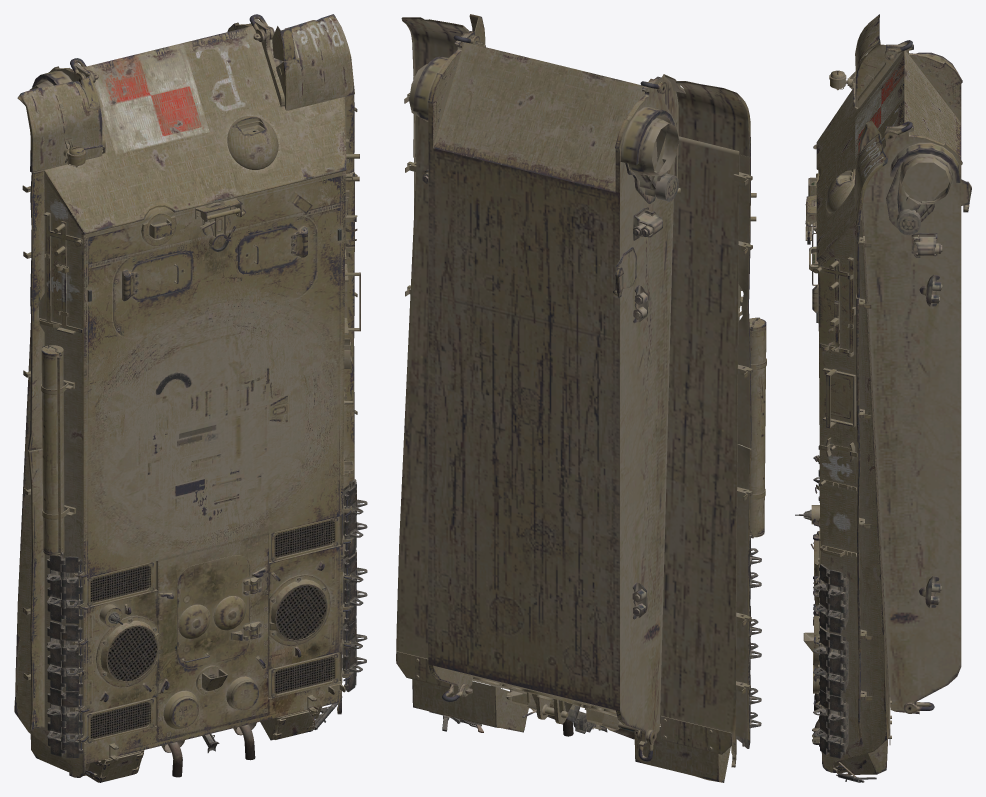
The model's file is Hull.glb.
The picture shows the model from 3 angles, left to right: view 1: azimuth 30°, elevation 25°; view 2: azimuth 150°, elevation 25°; view 3: azimuth 270°, elevation 25°; orthographic projection. The views are drawn at different scales.
Parts seen in each view (by area): view 1: set_0_group_0; view 2: set_0_group_0; view 3: set_0_group_0.
Part boxes in pixels (bbox=[...]): set_0_group_0: bbox=[14, 14, 367, 782]; set_0_group_0: bbox=[396, 14, 766, 782]; set_0_group_0: bbox=[795, 14, 971, 782].
Size of the model in its own units: 3.43 by 6.96 by 1.71.
1 material, 1 textured.
